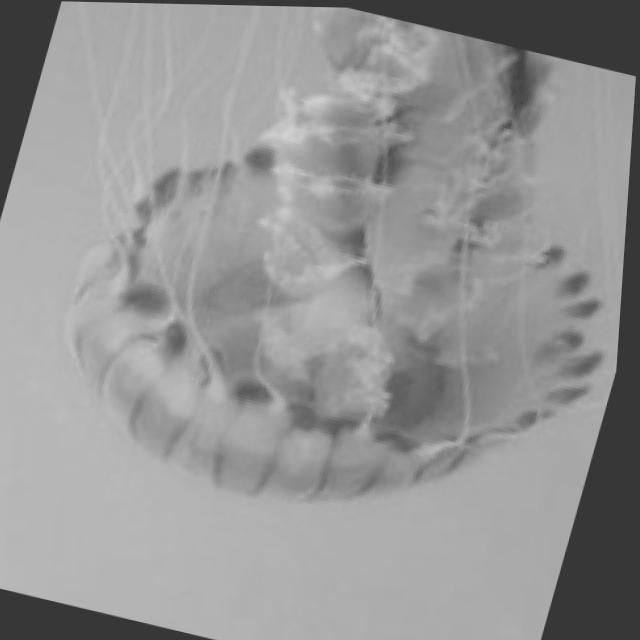Box-jellyfish: (22, 1, 640, 568)
